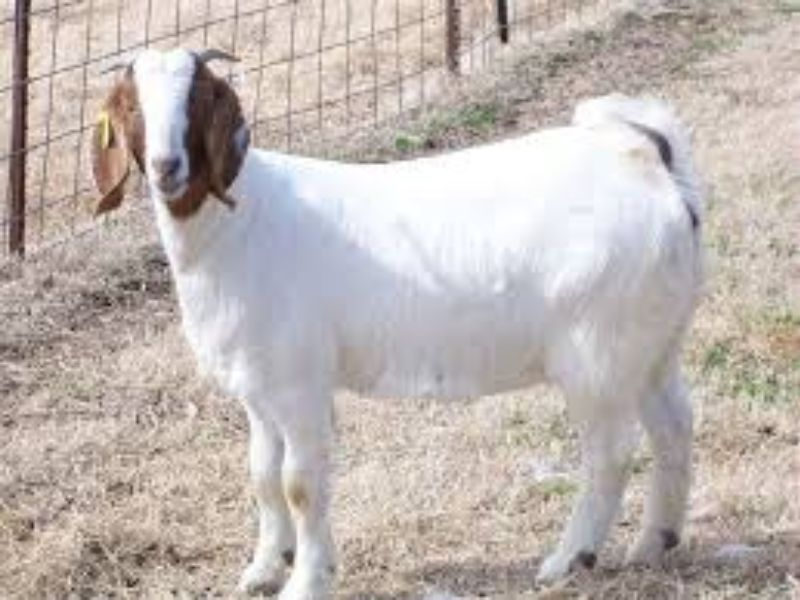goat: (79, 23, 717, 600)
